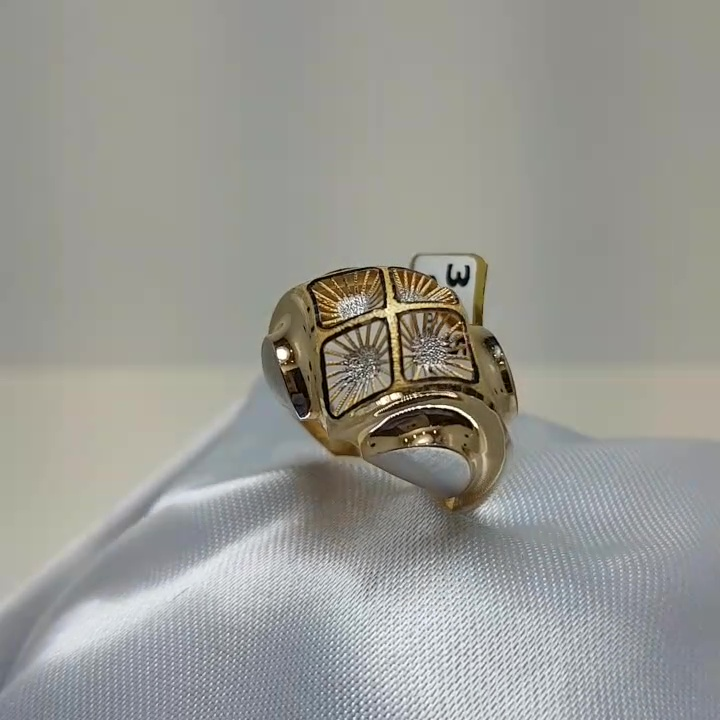Ring 2: (249, 249, 538, 531)
